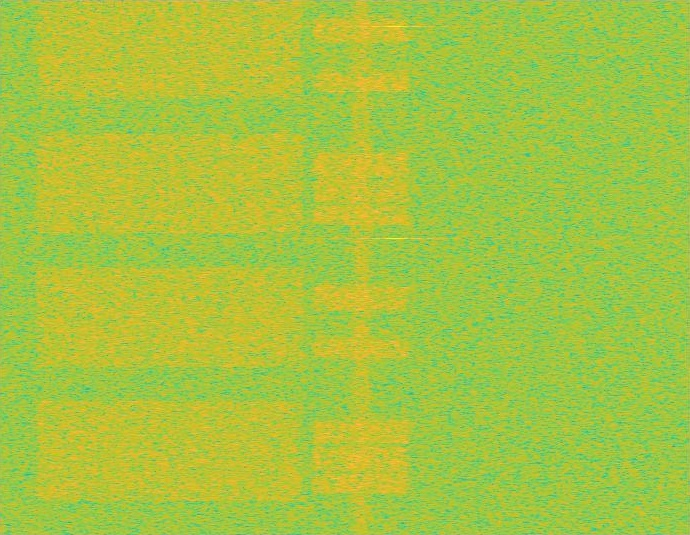5G: (32, 0, 308, 534)
DSSS: (350, 0, 373, 534)
LTE: (310, 0, 413, 534)
Radar: (389, 0, 403, 534)
